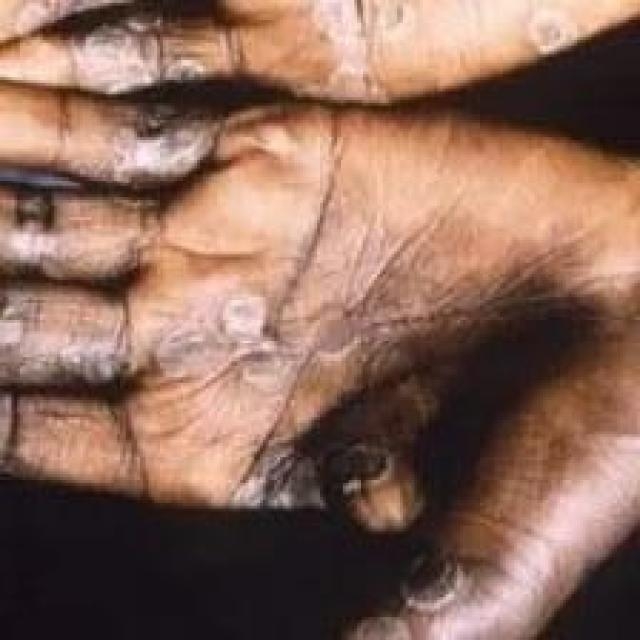monkeypox: (0, 0, 634, 594)
